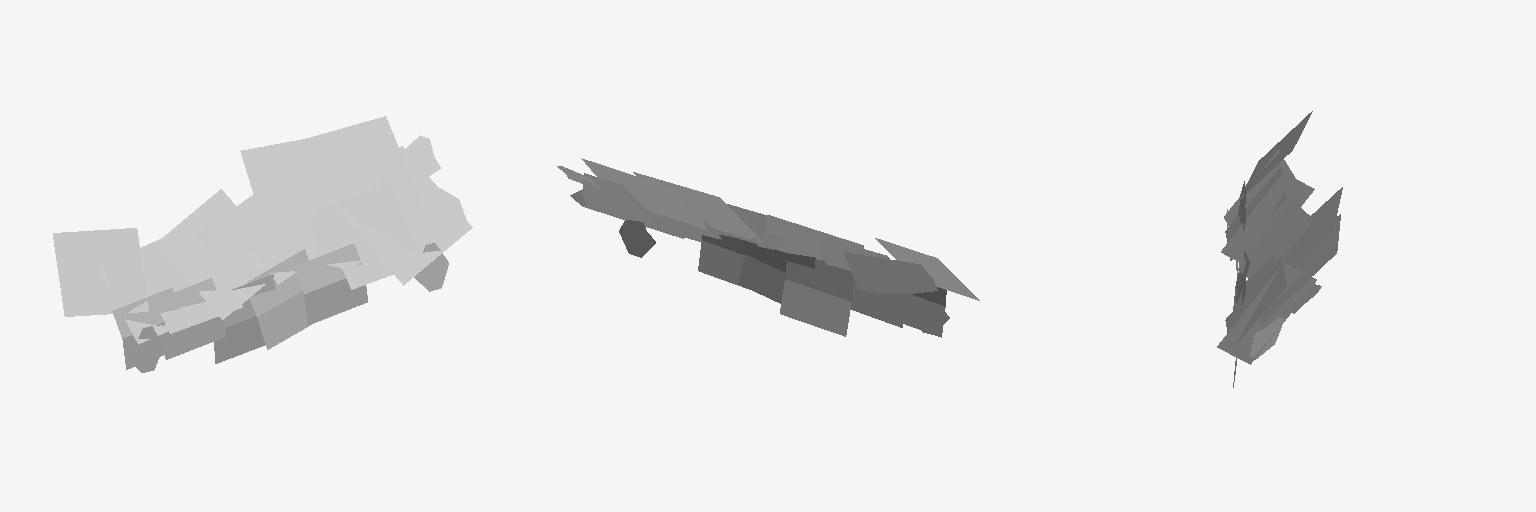
The model's file is Prop_Vine7.obj.
3 views of the same model, side by side, from view 1: azimuth 30°, elevation 25°; view 2: azimuth 150°, elevation 25°; view 3: azimuth 270°, elevation 25° (orthographic).
Visible parts, largest first — view 1: Prop_Vine7; view 2: Prop_Vine7; view 3: Prop_Vine7.
Part boxes in pixels (left/top/right/bottom): Prop_Vine7: left=53, top=116, right=472, bottom=372; Prop_Vine7: left=557, top=158, right=979, bottom=337; Prop_Vine7: left=1217, top=111, right=1342, bottom=387.
Bounding box in the file's own units: 4.14 × 1.57 × 1.13.